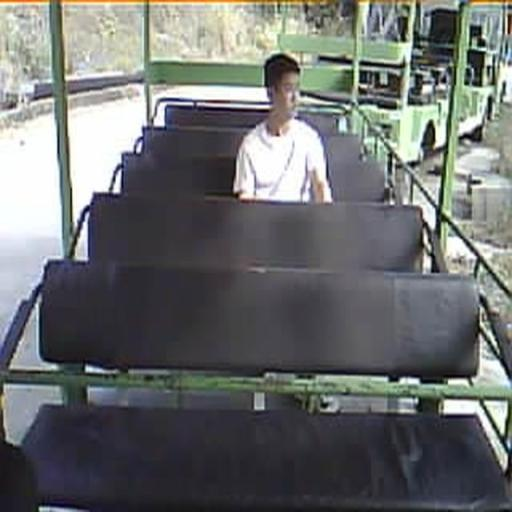persona: (232, 51, 334, 205)
